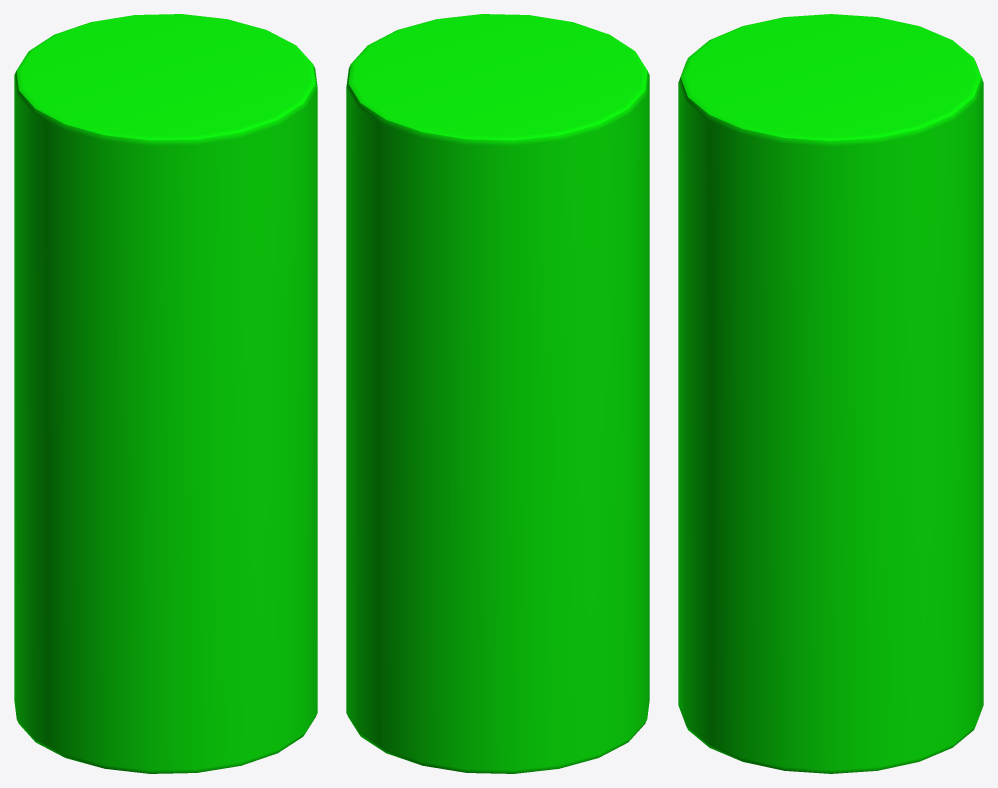
File: sm_cylinderblock.fbx
3 views of the same model, side by side, from view 1: azimuth 30°, elevation 25°; view 2: azimuth 150°, elevation 25°; view 3: azimuth 270°, elevation 25° (orthographic).
Visible parts, largest first — view 1: cylindricalblock_low; view 2: cylindricalblock_low; view 3: cylindricalblock_low.
Boxes of the visible parts, x1,y1,x2,y2 form: cylindricalblock_low: [14, 14, 317, 773]; cylindricalblock_low: [346, 14, 649, 773]; cylindricalblock_low: [678, 14, 983, 773].
Bounding box in the file's own units: 25.19 × 58.06 × 25.19.
